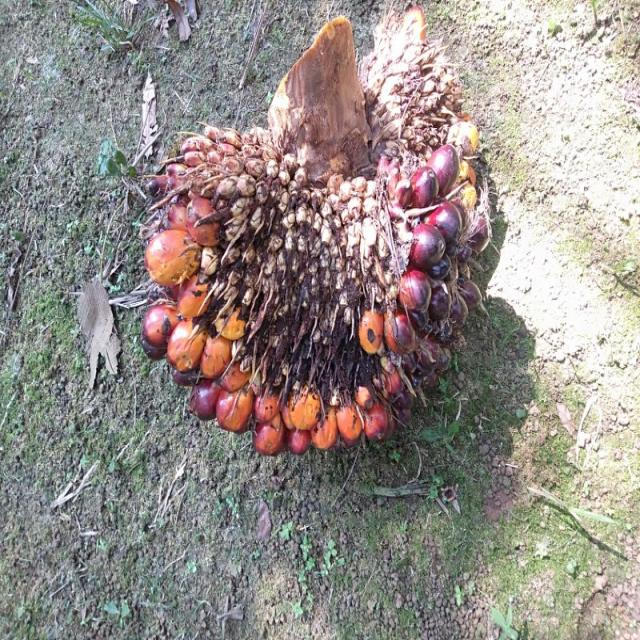fraksi 1: (138, 76, 500, 461)
